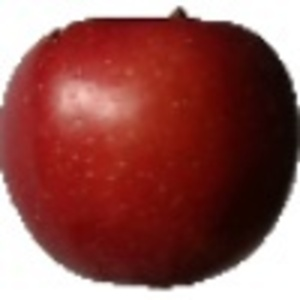maçã braeburn: (2, 8, 299, 279)
